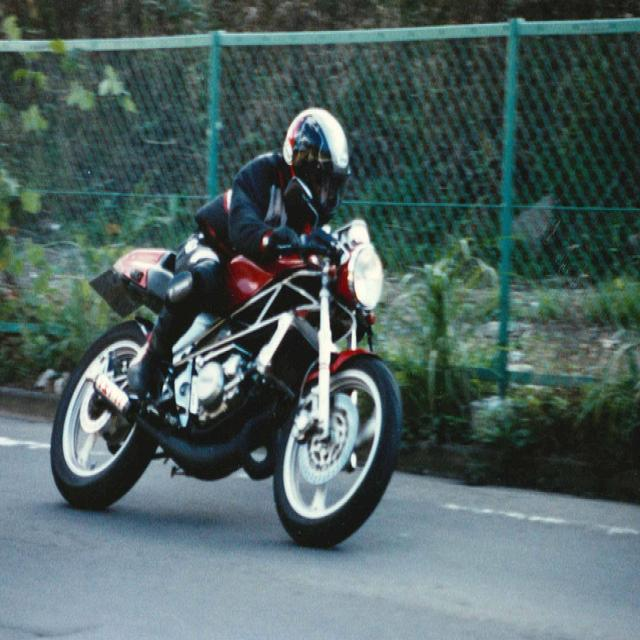motor: (53, 220, 405, 549)
